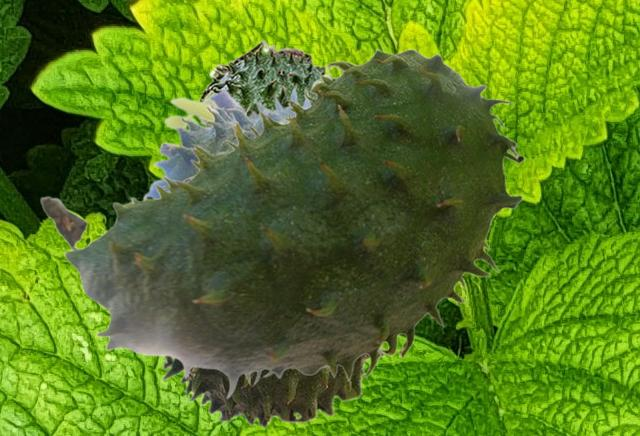guyabano: (39, 48, 524, 399), (142, 83, 386, 429), (196, 38, 335, 124)
